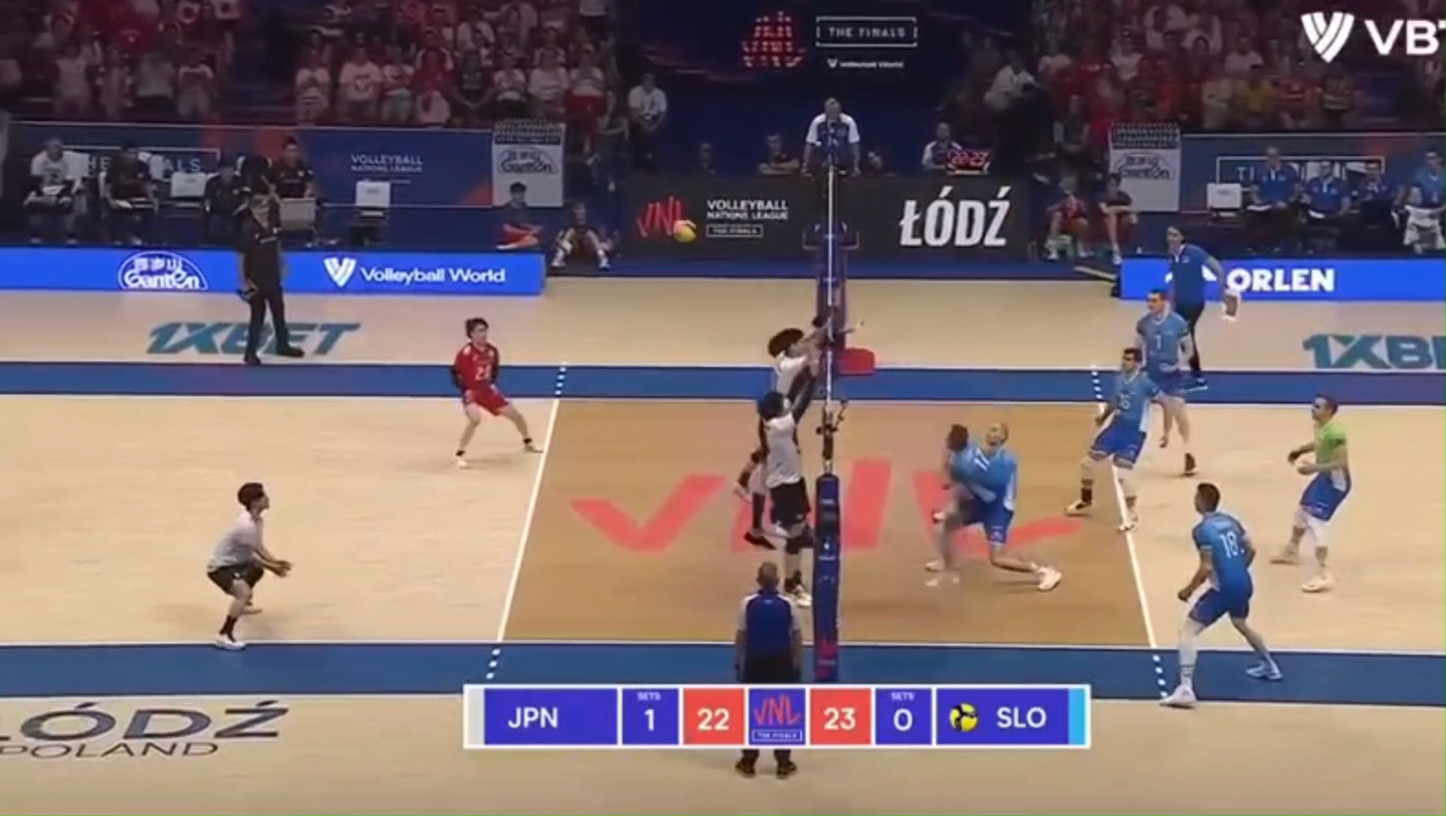ball: (672, 219, 697, 243)
player: (1160, 482, 1281, 709), (929, 423, 1061, 591), (1067, 347, 1162, 531), (1271, 396, 1352, 593), (1134, 290, 1196, 475), (925, 424, 997, 572)
player 1: (206, 482, 292, 650), (758, 360, 814, 606), (451, 317, 541, 466), (773, 328, 827, 401), (766, 311, 827, 355), (744, 469, 771, 546), (740, 447, 765, 486)
referee: (237, 194, 304, 365), (802, 98, 860, 263), (1166, 227, 1223, 387), (734, 562, 802, 683)
